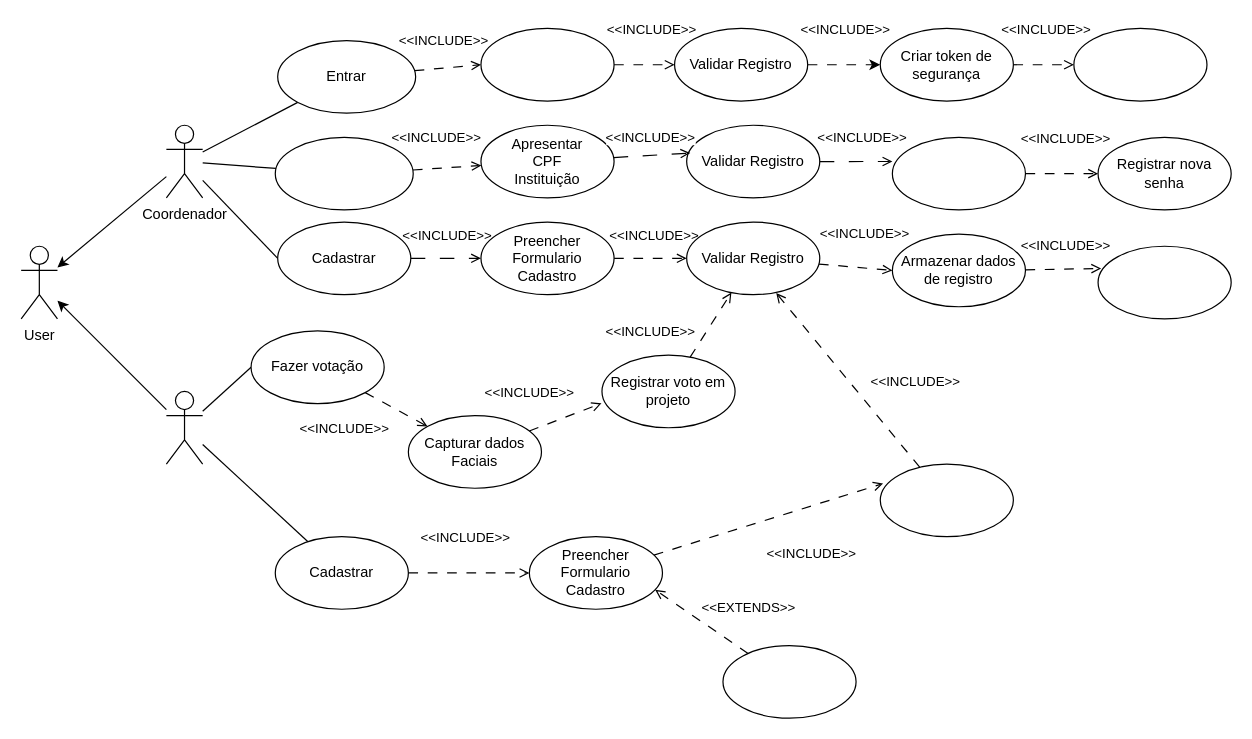
Some shapes in this 1252 by 739 pixel diagram are drawn without their labels. Each missing label, with the centre of its shape:
"Enviar token edição de senha para o email" belongs at (x=958, y=173).
"Fazer Registro Facial" belongs at (x=946, y=500).
"Informar E-mail" belongs at (x=789, y=681).
"Preencher Formulario Entrada" belongs at (x=547, y=64).
"Redirecionar ao sistema" belongs at (x=1140, y=64).
"Restaurar conta" belongs at (x=343, y=173).
"Retornar Mensagem de sucesso" belongs at (x=1164, y=282).
"Visitante" belongs at (x=184, y=427).
